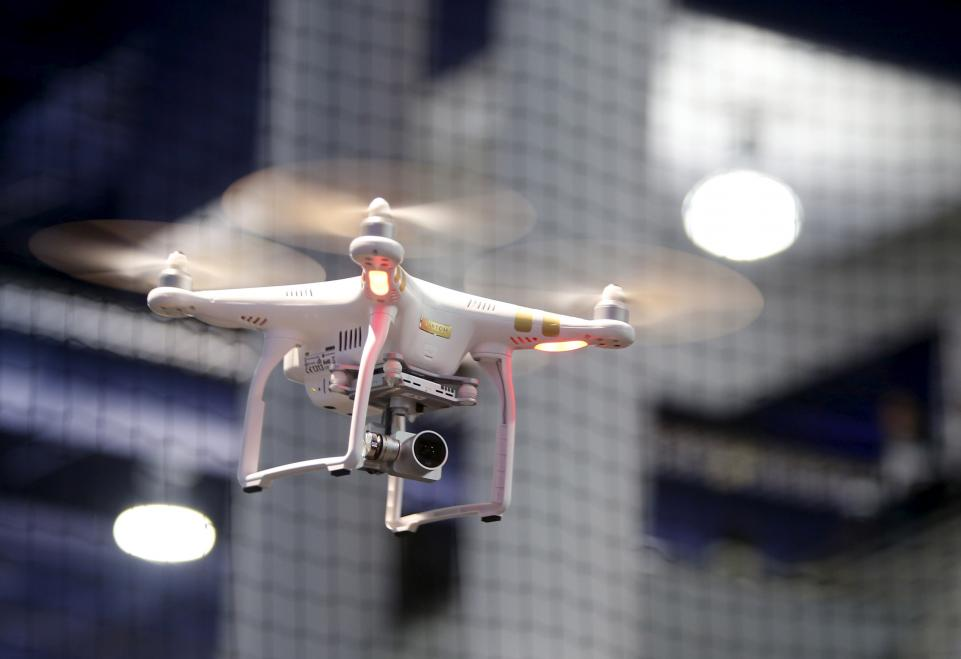drone: (33, 155, 768, 541)
